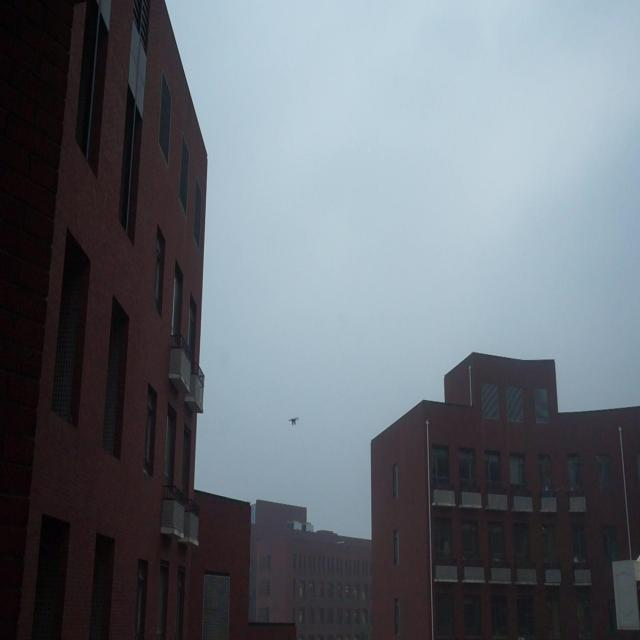UAV: (288, 417, 299, 427)
